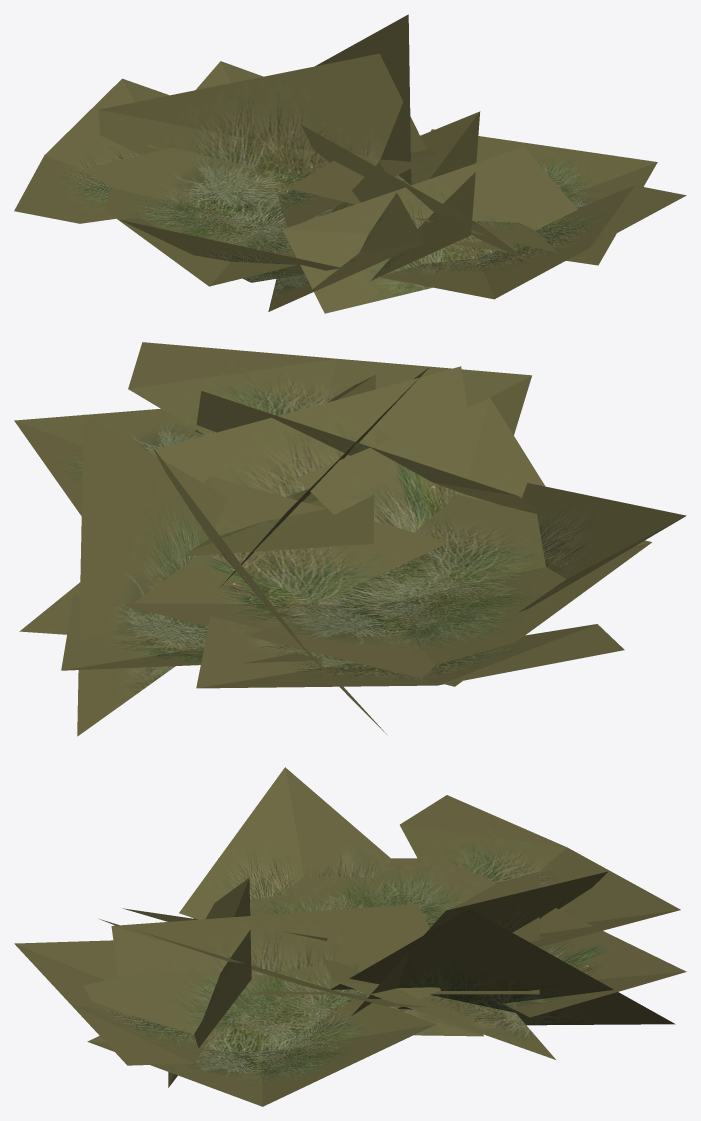
File: bg_atm_foliage_bushtree05_sm_ksy.FBX
3 views of the same model, one above another, from view 1: azimuth 30°, elevation 25°; view 2: azimuth 150°, elevation 25°; view 3: azimuth 270°, elevation 25° (orthographic). The views are drawn at different scales.
Parts seen in each view (by area): view 1: bg_atm_foliage_bushtree05_sm_ksy; view 2: bg_atm_foliage_bushtree05_sm_ksy; view 3: bg_atm_foliage_bushtree05_sm_ksy.
Part boxes in pixels (bbox=[...]): bg_atm_foliage_bushtree05_sm_ksy: bbox=[14, 14, 686, 313]; bg_atm_foliage_bushtree05_sm_ksy: bbox=[14, 342, 686, 736]; bg_atm_foliage_bushtree05_sm_ksy: bbox=[14, 767, 686, 1106].
Bounding box in the file's own units: 508 × 140 × 502.
